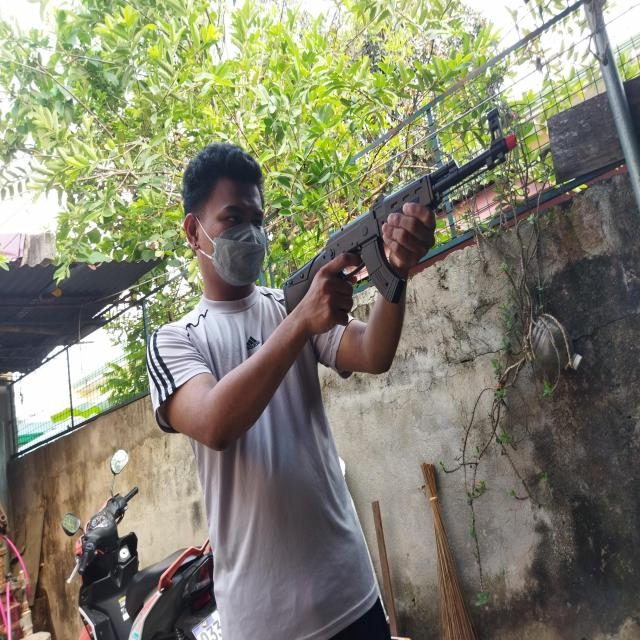rifle: (283, 104, 517, 302)
